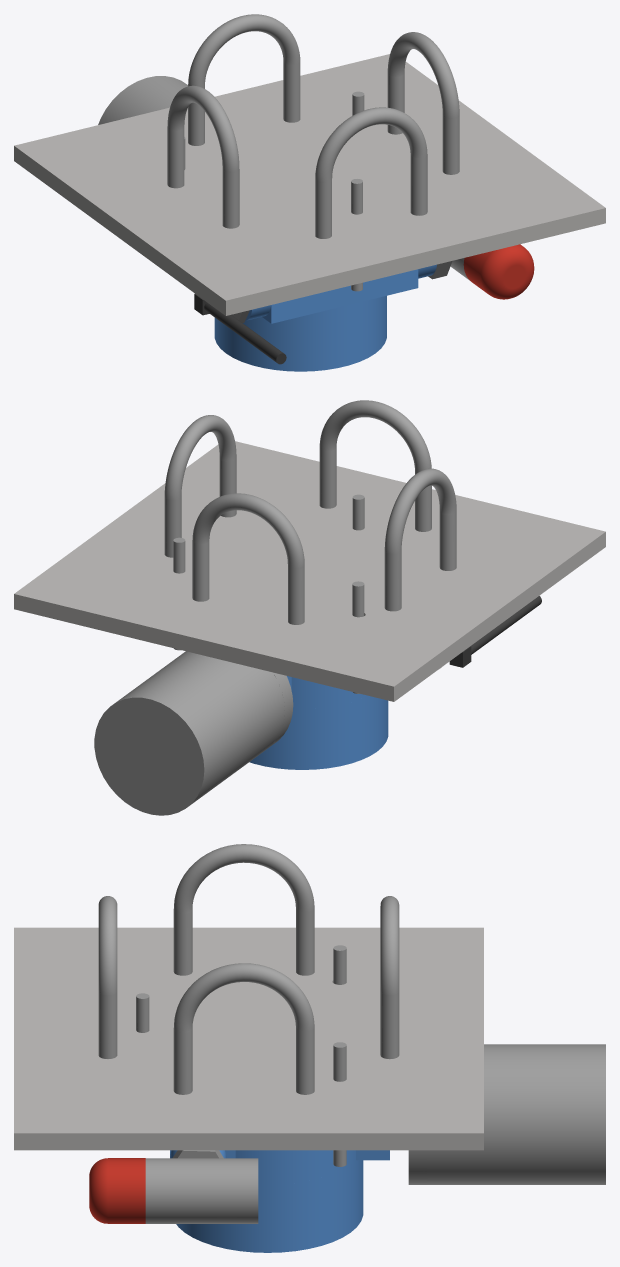
Rendered from ATEX CASING v2.obj.
The picture shows the model from 3 angles, top to bottom: view 1: azimuth 30°, elevation 25°; view 2: azimuth 150°, elevation 25°; view 3: azimuth 270°, elevation 25°; orthographic projection. The views are drawn at different scales.
Visible parts, largest first — view 1: Plate, Penutup Casing, Body54, Body53, Body55, Body56, Casing GLD, Body45, Body42, Body41, Body52; view 2: Plate, Body42, Penutup Casing, Body53, Body54, Body55, Body56, Casing GLD, Body41, Body38; view 3: Plate, Body42, Penutup Casing, Body44, Body55, Body56, Body45, Casing GLD, Body54, Body53, Body50, Body38 (+2 smaller).
Boxes of the visible parts, bbox=[...] form: Plate: bbox=[14, 54, 605, 315]; Penutup Casing: bbox=[214, 295, 386, 371]; Body54: bbox=[315, 107, 427, 238]; Body53: bbox=[188, 14, 300, 145]; Body55: bbox=[167, 85, 239, 228]; Body56: bbox=[387, 32, 459, 174]; Casing GLD: bbox=[262, 269, 418, 323]; Body45: bbox=[463, 244, 534, 299]; Body42: bbox=[98, 76, 187, 124]; Body41: bbox=[194, 294, 286, 364]; Body52: bbox=[351, 179, 362, 291]; Plate: bbox=[14, 441, 605, 701]; Body42: bbox=[94, 651, 284, 815]; Penutup Casing: bbox=[249, 695, 388, 769]; Body53: bbox=[192, 493, 304, 624]; Body54: bbox=[319, 400, 431, 531]; Body55: bbox=[384, 468, 456, 611]; Body56: bbox=[164, 415, 236, 557]; Casing GLD: bbox=[287, 676, 367, 708]; Body41: bbox=[449, 596, 541, 667]; Body38: bbox=[269, 672, 293, 747]; Plate: bbox=[14, 927, 483, 1150]; Body42: bbox=[427, 1044, 605, 1184]; Penutup Casing: bbox=[176, 1160, 363, 1252]; Body44: bbox=[145, 1158, 258, 1223]; Body55: bbox=[173, 844, 314, 975]; Body56: bbox=[173, 963, 314, 1094]; Body45: bbox=[89, 1158, 145, 1223]; Casing GLD: bbox=[170, 1150, 389, 1184]; Body54: bbox=[98, 896, 117, 1058]; Body53: bbox=[380, 896, 399, 1059]; Body50: bbox=[333, 1042, 346, 1166]; Body38: bbox=[408, 1150, 427, 1184].
Bounding box in the file's own units: 25.9 × 18.15 × 31.5.
